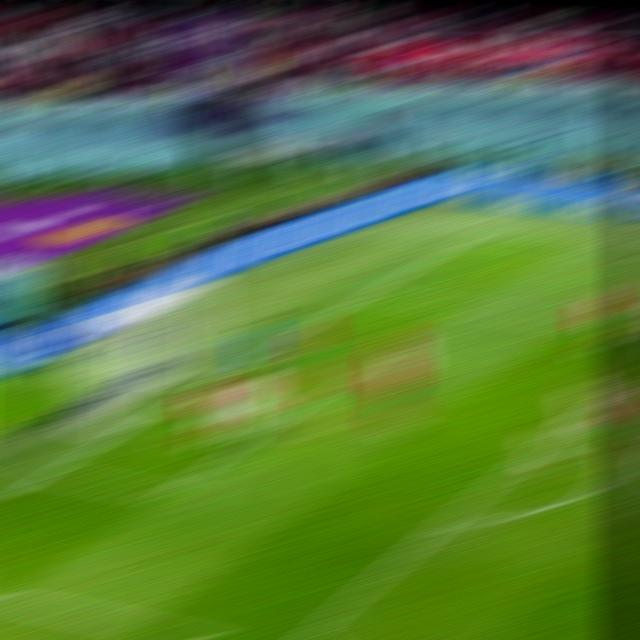bigarea_bottom_inner: (261, 637, 307, 637)
bigarea_top_outter: (348, 284, 387, 302)
bottom_arc_area_intersection: (423, 509, 465, 534)
corner: (453, 229, 496, 241)
smallarea_bottom_inner: (143, 477, 188, 506)
smallarea_bottom_outter: (28, 461, 70, 483)
smallarea_top_inner: (348, 355, 385, 376)
smallarea_top_outter: (248, 344, 286, 357)
